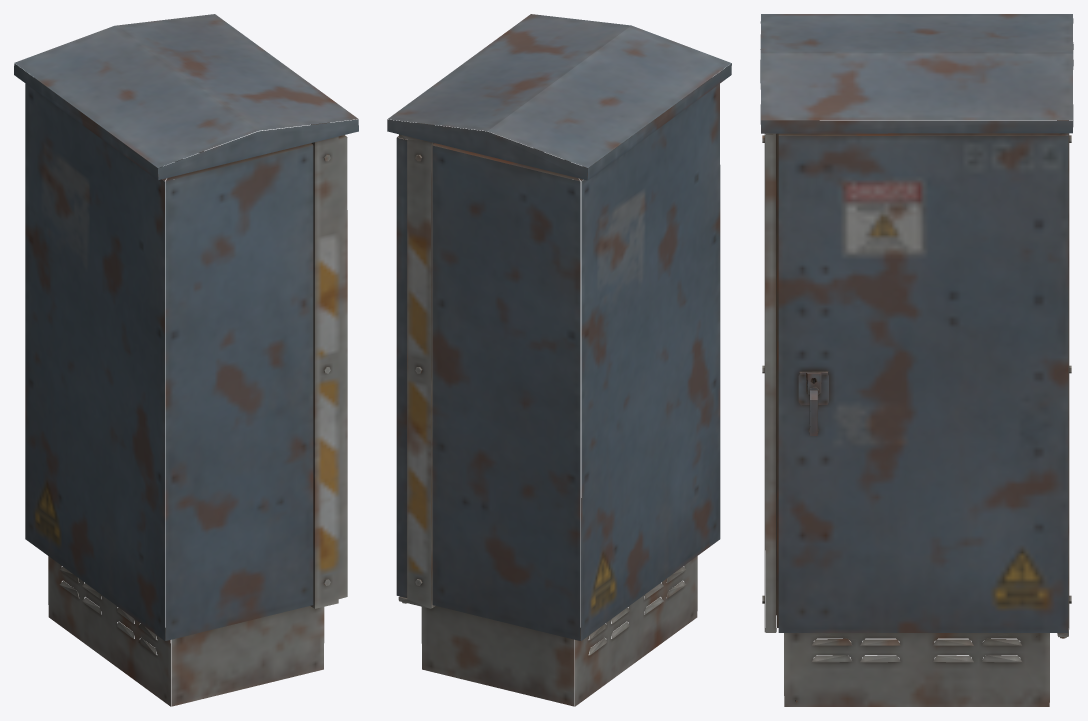
File: prop_utility1.glb
3 renders of one model, left to right at view 1: azimuth 30°, elevation 25°; view 2: azimuth 150°, elevation 25°; view 3: azimuth 270°, elevation 25°, orthographic. The views are drawn at different scales.
Visible parts, largest first — view 1: hull; view 2: hull; view 3: hull.
Boxes of the visible parts, <box> form: hull: <box>14,14,358,706</box>; hull: <box>387,14,731,706</box>; hull: <box>760,14,1073,706</box>.
Size of the model in its own units: 1.66 by 4.32 by 2.
1 material, 1 textured.
